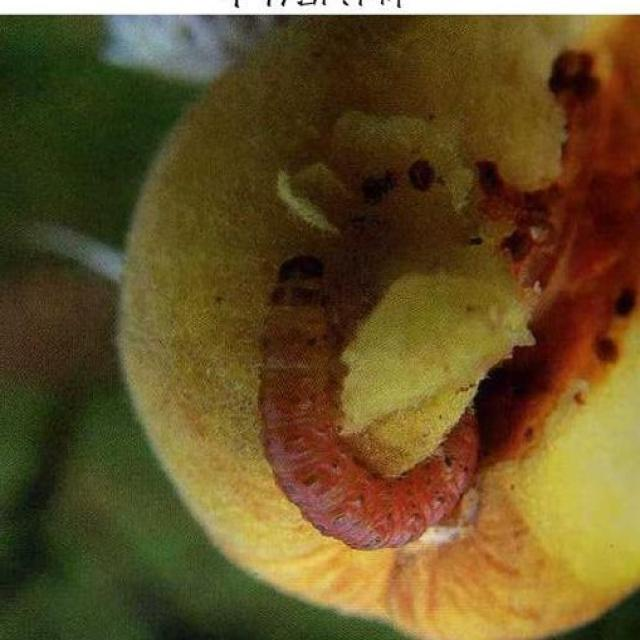peach borer: (244, 208, 485, 554)
